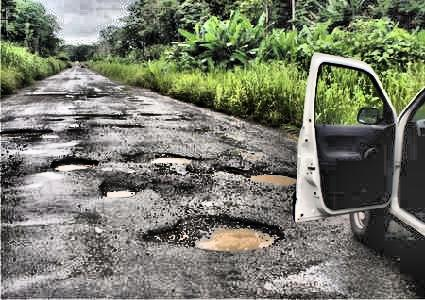pothole: (141, 212, 286, 252), (244, 167, 298, 185), (48, 156, 98, 171), (98, 181, 137, 199), (150, 152, 193, 165), (0, 126, 50, 137), (226, 163, 243, 180), (115, 121, 144, 129), (25, 92, 66, 97), (140, 110, 157, 118), (108, 112, 124, 118)
